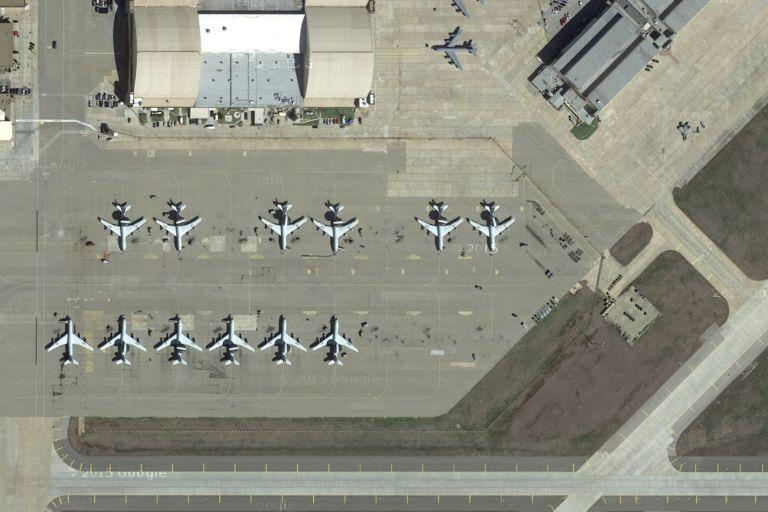E-3: (149, 314, 209, 369), (93, 198, 151, 254), (309, 199, 363, 256), (256, 310, 310, 367), (465, 196, 518, 254), (257, 198, 311, 254), (307, 314, 363, 367), (153, 198, 207, 252), (201, 315, 257, 367), (95, 315, 149, 367), (414, 201, 466, 254)
E-8: (44, 317, 96, 369)
KC-135: (426, 26, 478, 70)
